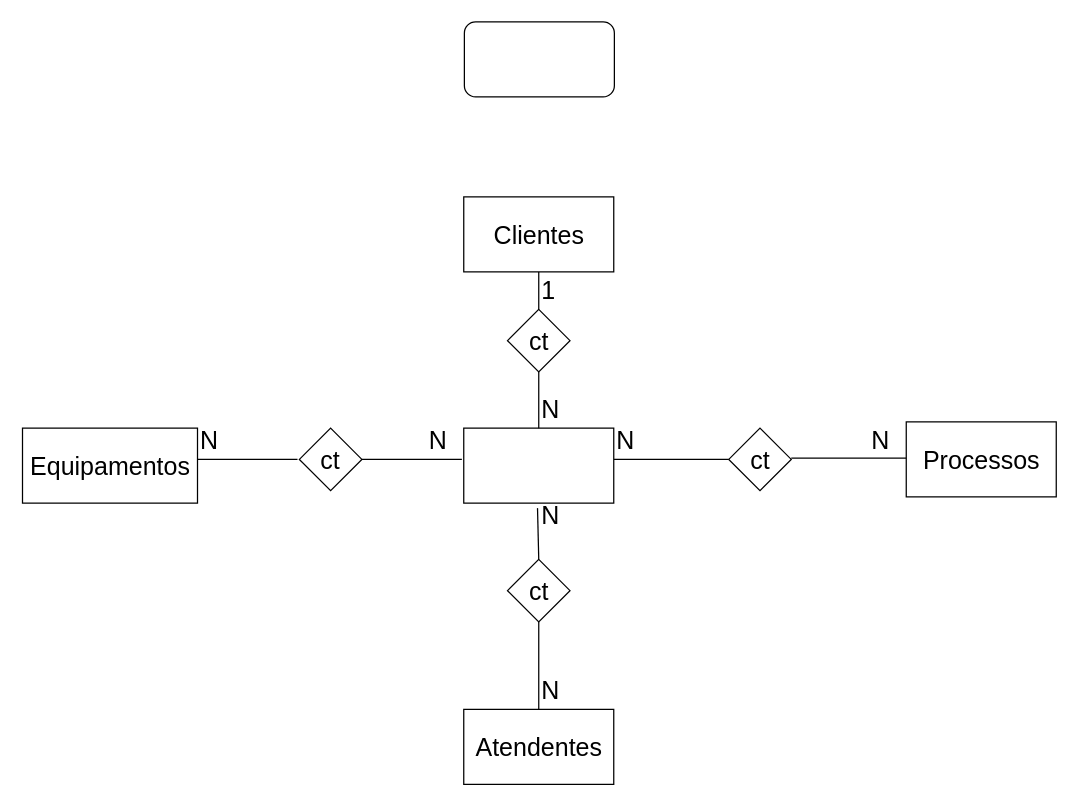
Some shapes in this 1078 by 806 pixel diagram are drawn without their labels. The shapes that lost their labels are listed below. From the top down, each one's centre as x and y in pixels, then its label:
At (538,59): "CONCEITUAL".
At (538,465): "Pedidos".
